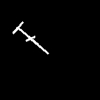double_crochet: (13, 22, 48, 53)
